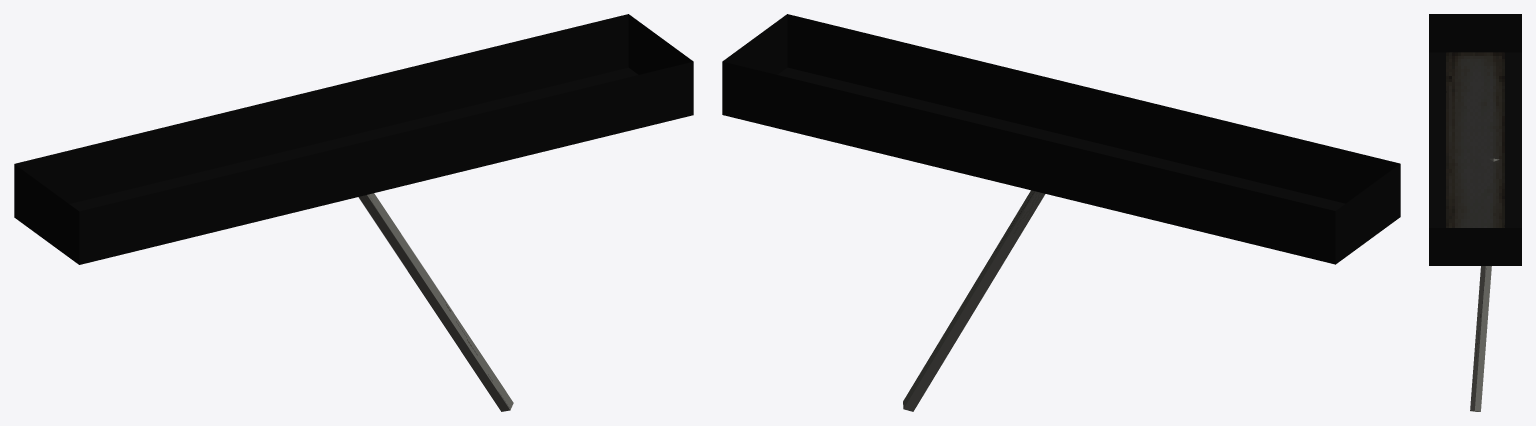
File: prop_light_fixture-2.glb
3 renders of one model, left to right at view 1: azimuth 30°, elevation 25°; view 2: azimuth 150°, elevation 25°; view 3: azimuth 270°, elevation 25°, orthographic. The views are drawn at different scales.
Visible parts, largest first — view 1: prop_light_fixture-2; view 2: prop_light_fixture-2; view 3: prop_light_fixture-2.
Part boxes in pixels (<box>): prop_light_fixture-2: <box>14,14,693,411</box>; prop_light_fixture-2: <box>722,14,1400,411</box>; prop_light_fixture-2: <box>1429,14,1521,411</box>.
Bounding box in the file's own units: 1.2 × 0.6266 × 0.22.
Materials: 2 (2 with a texture image).
